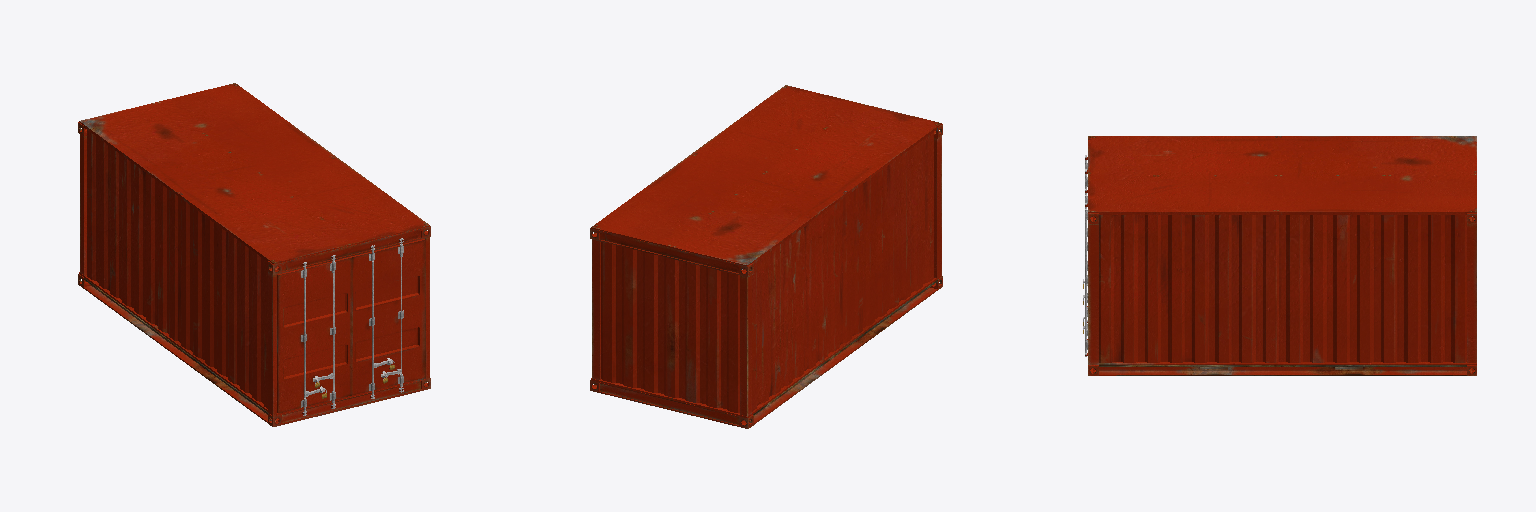
3 views of the same model, side by side, from view 1: azimuth 30°, elevation 25°; view 2: azimuth 150°, elevation 25°; view 3: azimuth 270°, elevation 25° (orthographic).
Parts seen in each view (by area): view 1: Box17, Line01, Box70, Box047, Line18, Box24, Box060, Box03, Box055, Box02, Box26; view 2: Box17, Line01, Line04, Line18, Box059, Box84, Box055, Box058, Box02, Box03; view 3: Line03, Box17, Line02, Box26, Box058, Box02.
Part boxes in pixels (bbox=[...]): Box17: bbox=[79, 83, 429, 263]; Line01: bbox=[87, 130, 271, 408]; Box70: bbox=[277, 257, 351, 412]; Box047: bbox=[351, 239, 425, 394]; Line18: bbox=[84, 278, 271, 422]; Box24: bbox=[268, 226, 430, 274]; Box060: bbox=[268, 378, 430, 426]; Box03: bbox=[268, 272, 276, 415]; Box055: bbox=[80, 135, 86, 275]; Box02: bbox=[79, 272, 425, 414]; Box26: bbox=[425, 237, 429, 378]; Box17: bbox=[591, 85, 941, 266]; Line01: bbox=[750, 132, 933, 411]; Line04: bbox=[601, 242, 739, 412]; Line18: bbox=[750, 280, 937, 424]; Box059: bbox=[590, 380, 753, 428]; Box84: bbox=[590, 228, 753, 276]; Box055: bbox=[740, 275, 751, 416]; Box058: bbox=[592, 240, 600, 379]; Box02: bbox=[591, 278, 936, 417]; Box03: bbox=[934, 136, 941, 279]; Line03: bbox=[1099, 215, 1466, 362]; Box17: bbox=[1088, 136, 1476, 214]; Line02: bbox=[1099, 365, 1466, 375]; Box26: bbox=[1088, 225, 1098, 364]; Box058: bbox=[1467, 225, 1476, 362]; Box02: bbox=[1099, 362, 1476, 364].
Bounding box in the file's own units: 2.76 × 2.73 × 5.97.
Materials: 4 (3 with a texture image).